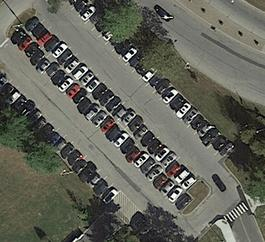parkingspot: (7, 24, 196, 216), (20, 11, 204, 193), (60, 0, 237, 164), (0, 66, 123, 207)
